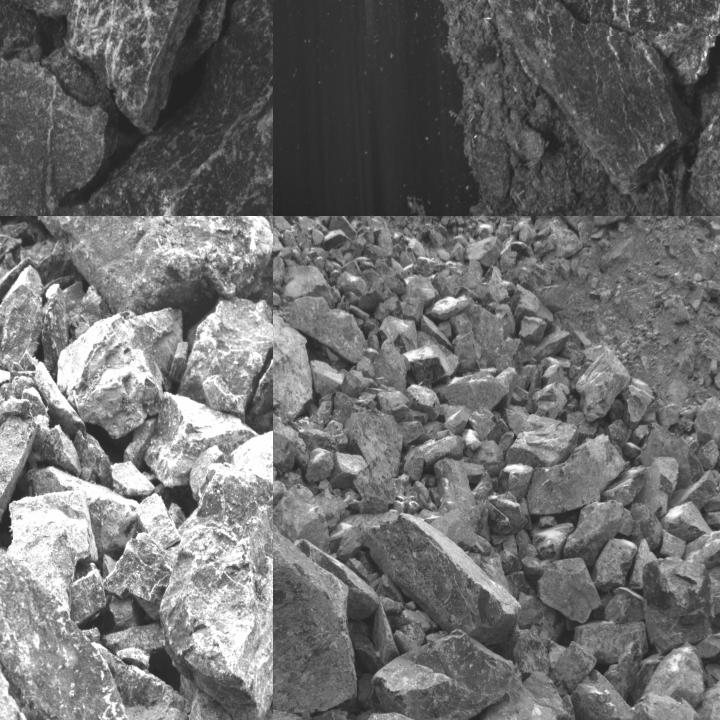stone: (479, 0, 701, 194), (86, 0, 272, 215), (159, 463, 272, 719), (0, 544, 156, 719), (27, 216, 272, 318), (489, 0, 719, 90), (366, 510, 521, 642), (64, 0, 206, 132), (0, 53, 108, 215), (273, 492, 354, 708), (57, 308, 183, 439), (143, 391, 261, 505), (372, 634, 516, 719), (177, 296, 272, 423), (529, 435, 631, 517), (642, 559, 716, 653), (102, 532, 178, 622), (290, 296, 366, 364), (564, 499, 636, 569), (688, 58, 719, 215), (0, 264, 44, 373), (0, 413, 36, 546), (537, 557, 604, 624), (637, 644, 706, 708), (572, 347, 630, 421), (505, 413, 580, 468), (346, 407, 402, 478), (273, 486, 332, 553), (571, 665, 633, 719), (574, 620, 648, 662), (589, 537, 638, 598), (250, 289, 272, 421), (684, 517, 719, 596), (135, 493, 182, 549), (609, 376, 654, 430), (501, 630, 548, 678), (442, 373, 507, 407), (663, 501, 714, 544), (553, 641, 596, 692), (404, 345, 453, 389), (644, 453, 677, 518), (71, 569, 108, 626), (41, 424, 81, 476), (435, 458, 474, 510), (485, 489, 527, 535), (602, 467, 650, 507), (606, 646, 643, 697), (630, 695, 706, 719), (273, 416, 305, 472), (419, 430, 464, 469), (109, 461, 155, 498), (531, 524, 575, 559), (514, 286, 552, 323), (695, 397, 719, 449), (493, 334, 526, 370), (474, 442, 506, 474), (519, 316, 545, 347), (709, 563, 719, 626)
